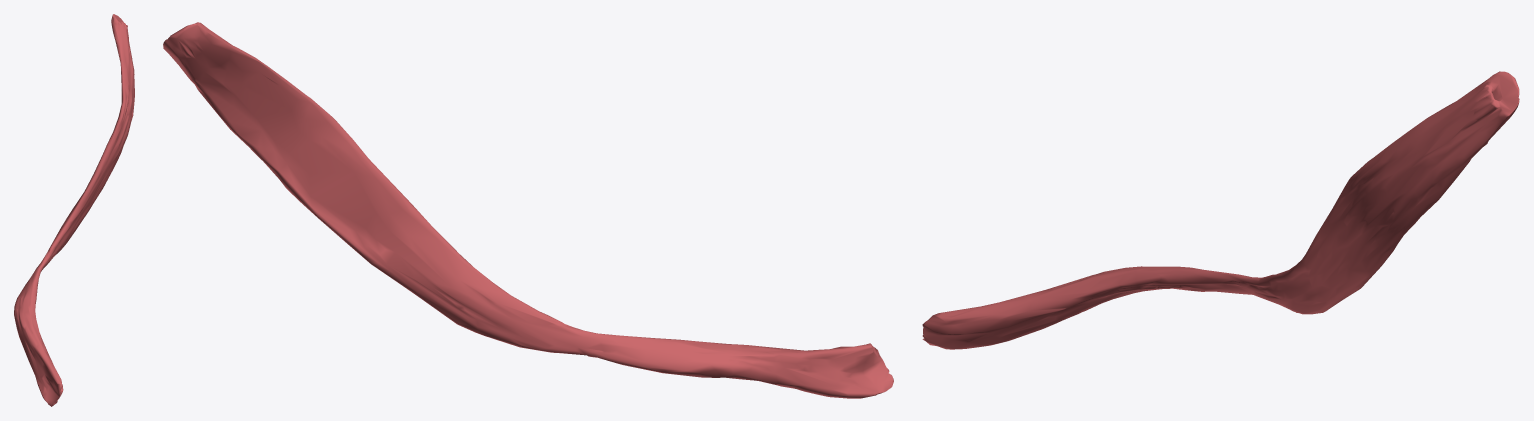
The picture shows the model from 3 angles, left to right: view 1: azimuth 30°, elevation 25°; view 2: azimuth 150°, elevation 25°; view 3: azimuth 270°, elevation 25°; orthographic projection. The views are drawn at different scales.
Visible parts, largest first — view 1: 左侧肩胛舌骨肌; view 2: 左侧肩胛舌骨肌; view 3: 左侧肩胛舌骨肌.
Part boxes in pixels (bbox=[...]): 左侧肩胛舌骨肌: bbox=[14, 14, 134, 406]; 左侧肩胛舌骨肌: bbox=[163, 22, 893, 398]; 左侧肩胛舌骨肌: bbox=[922, 71, 1519, 349].
Bounding box in the file's own units: 0.1338 × 0.1377 × 0.157.
